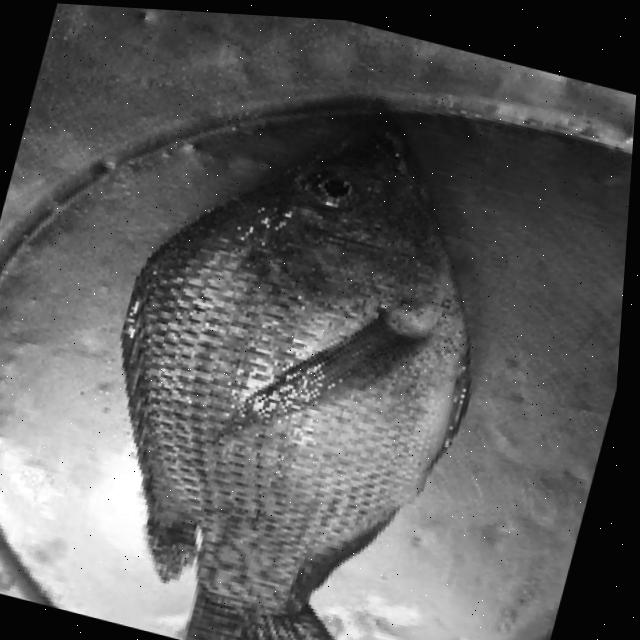Fresh: (42, 64, 546, 640)
